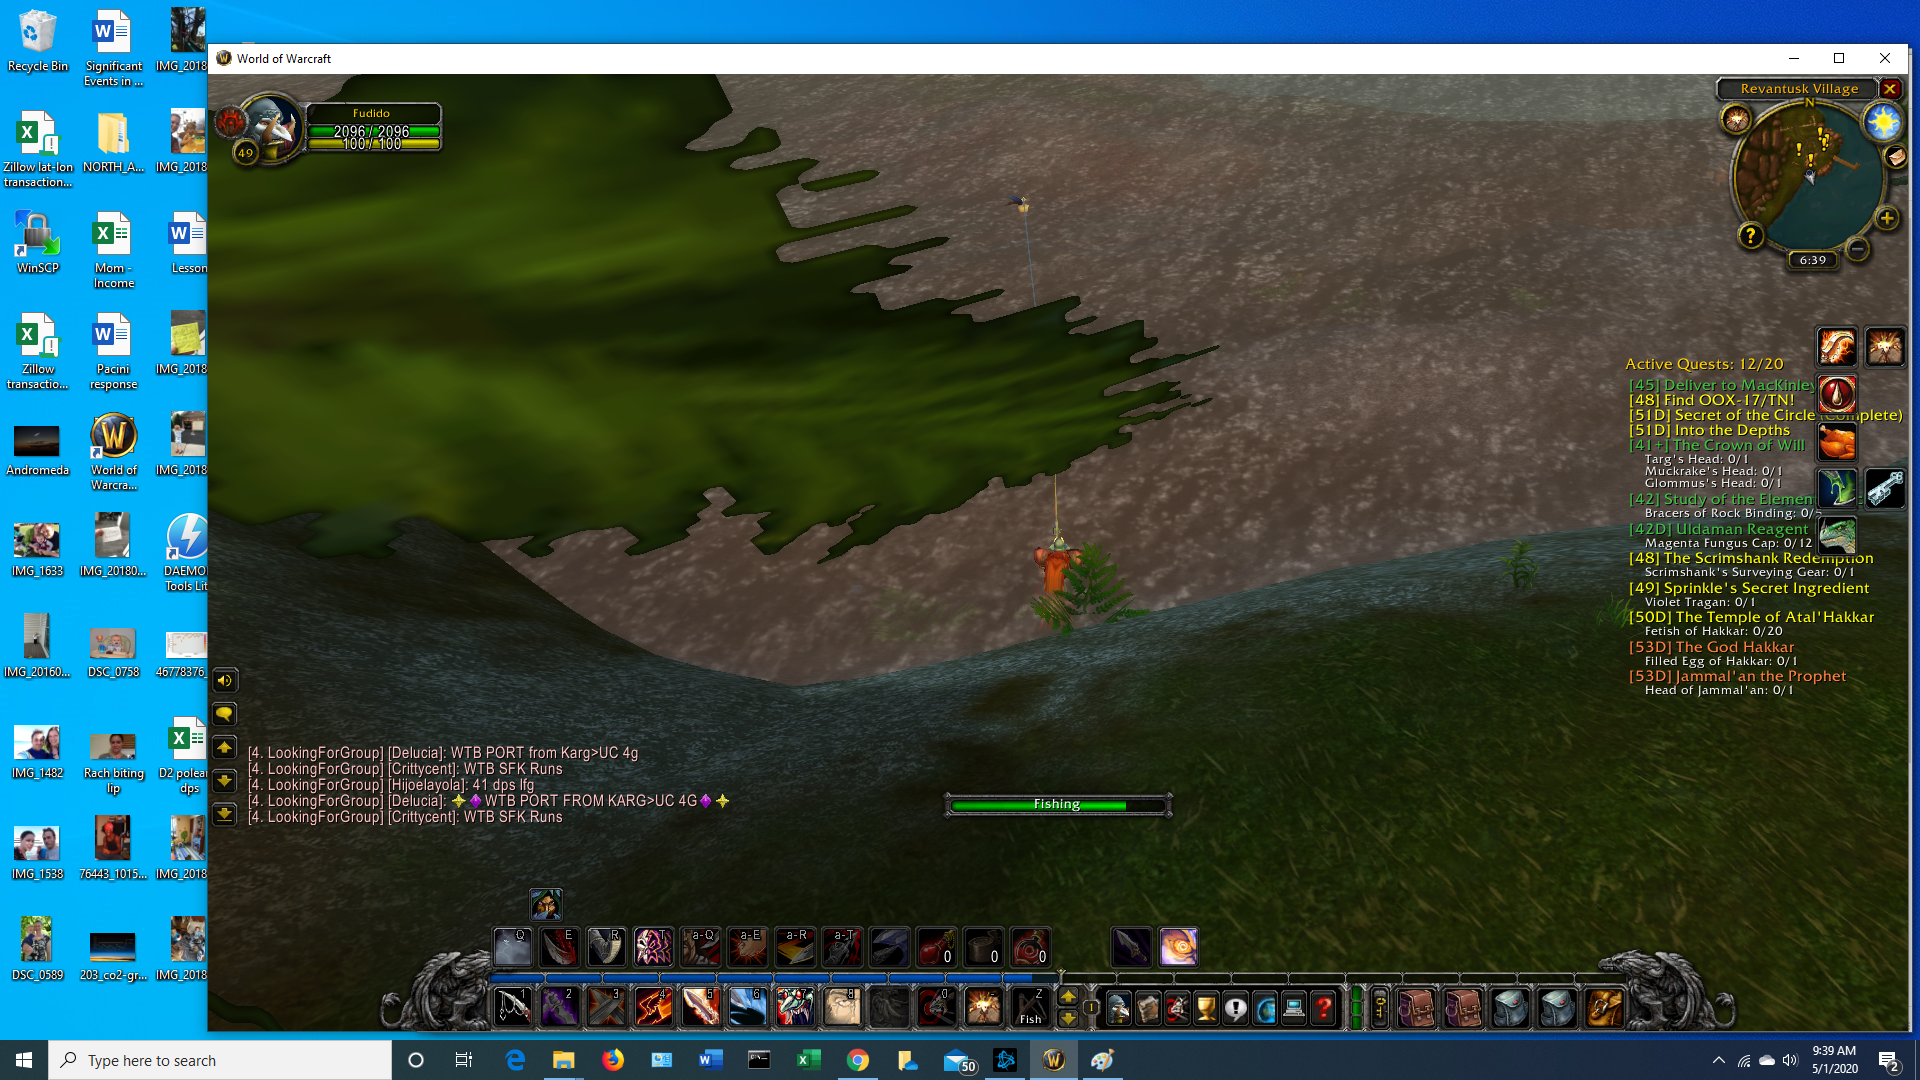bobble: (1006, 187, 1035, 219)
